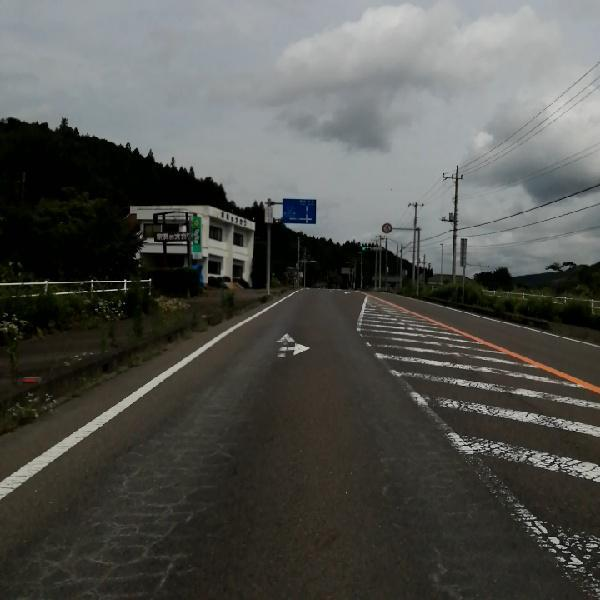D20: (27, 373, 242, 599)
D43: (350, 309, 597, 596)
D44: (351, 307, 598, 594)
